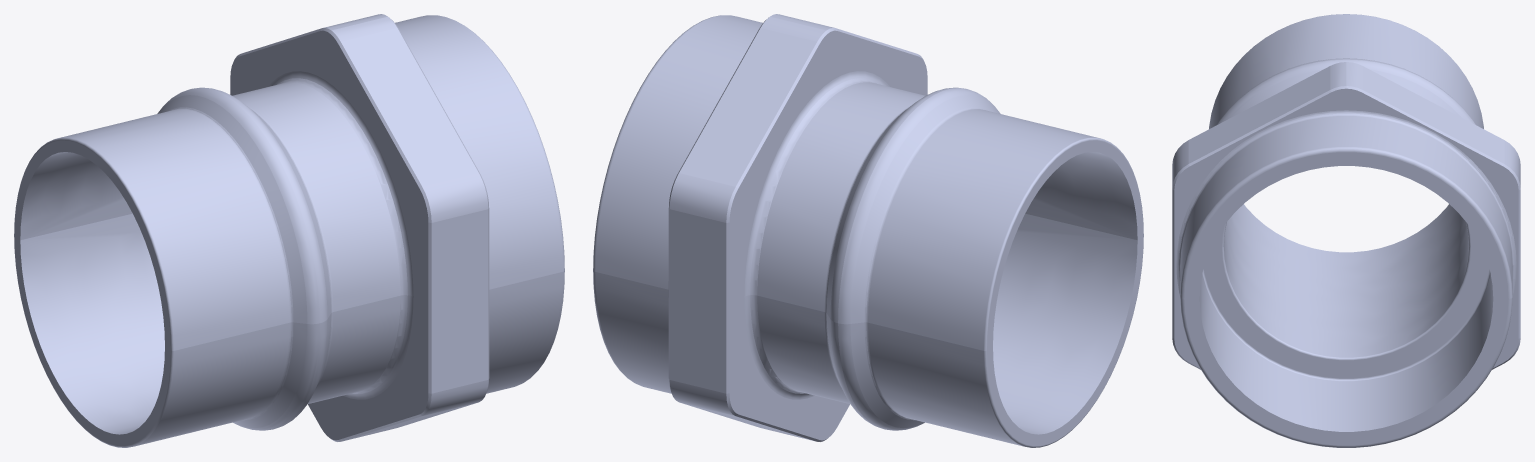
The picture shows the model from 3 angles, left to right: view 1: azimuth 30°, elevation 25°; view 2: azimuth 150°, elevation 25°; view 3: azimuth 270°, elevation 25°; orthographic projection. The views are drawn at different scales.
Bounding box in the file's own units: 94.19 × 97.31 × 86.44.
